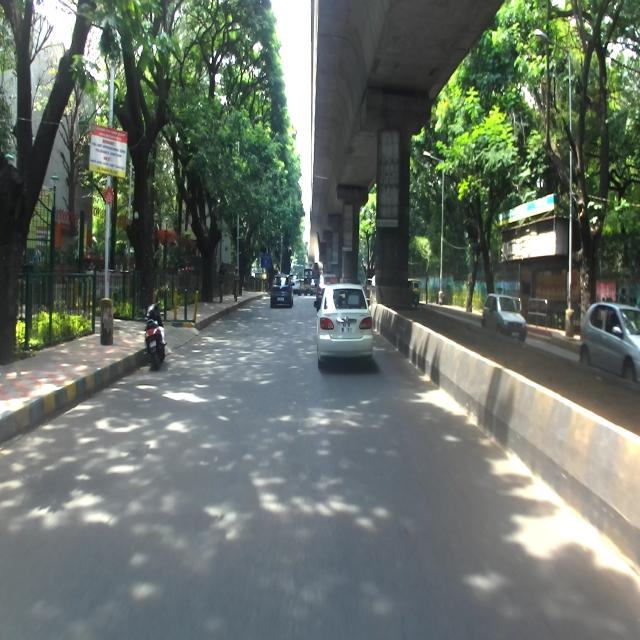car ahead at: (313, 287, 372, 361)
electric pole ahead at: (90, 48, 125, 341)
